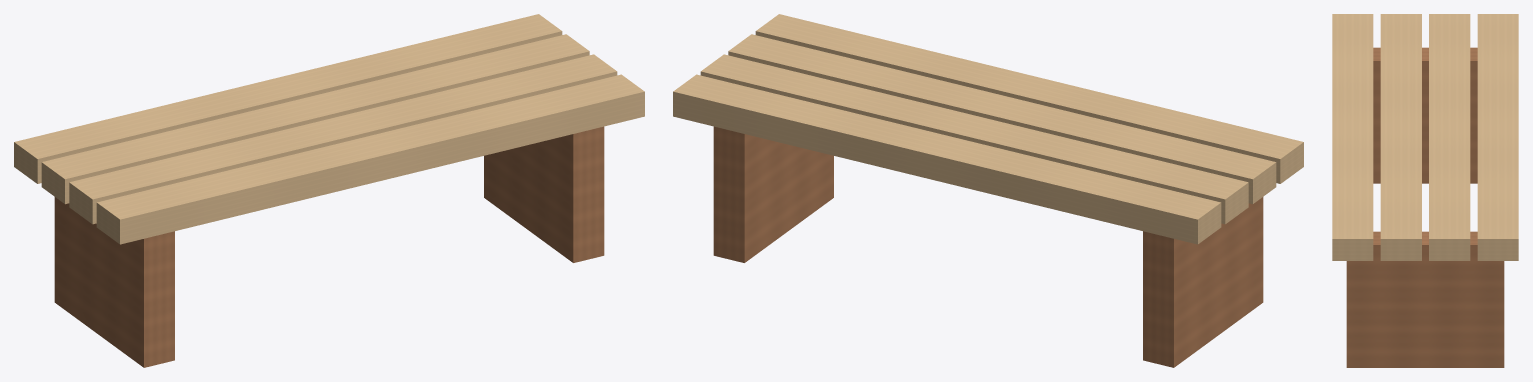
The model's file is atlas100-desertdeco-util03.glb.
3 views of the same model, side by side, from view 1: azimuth 30°, elevation 25°; view 2: azimuth 150°, elevation 25°; view 3: azimuth 270°, elevation 25° (orthographic). The views are drawn at different scales.
Parts seen in each view (by area): view 1: atlas100-desertdeco-util03:part-005, atlas100-desertdeco-util03:part-003, atlas100-desertdeco-util03:part-002, atlas100-desertdeco-util03:part-004, atlas100-desertdeco-util03:part-000, atlas100-desertdeco-util03:part-001; view 2: atlas100-desertdeco-util03:part-002, atlas100-desertdeco-util03:part-004, atlas100-desertdeco-util03:part-003, atlas100-desertdeco-util03:part-005, atlas100-desertdeco-util03:part-000, atlas100-desertdeco-util03:part-001; view 3: atlas100-desertdeco-util03:part-001, atlas100-desertdeco-util03:part-002, atlas100-desertdeco-util03:part-003, atlas100-desertdeco-util03:part-004, atlas100-desertdeco-util03:part-005, atlas100-desertdeco-util03:part-000.
Boxes of the visible parts, box(x1,y1,x2,y2) form: atlas100-desertdeco-util03:part-005: box(96, 74, 644, 244); atlas100-desertdeco-util03:part-003: box(41, 34, 589, 204); atlas100-desertdeco-util03:part-002: box(14, 14, 562, 183); atlas100-desertdeco-util03:part-004: box(69, 54, 617, 224); atlas100-desertdeco-util03:part-000: box(54, 197, 174, 367); atlas100-desertdeco-util03:part-001: box(484, 126, 604, 262); atlas100-desertdeco-util03:part-002: box(673, 74, 1221, 244); atlas100-desertdeco-util03:part-004: box(728, 34, 1276, 204); atlas100-desertdeco-util03:part-003: box(700, 54, 1248, 224); atlas100-desertdeco-util03:part-005: box(755, 14, 1303, 183); atlas100-desertdeco-util03:part-000: box(1143, 197, 1263, 367); atlas100-desertdeco-util03:part-001: box(713, 126, 833, 262); atlas100-desertdeco-util03:part-001: box(1346, 231, 1504, 367); atlas100-desertdeco-util03:part-002: box(1477, 14, 1518, 260); atlas100-desertdeco-util03:part-003: box(1429, 14, 1470, 260); atlas100-desertdeco-util03:part-004: box(1380, 14, 1421, 260); atlas100-desertdeco-util03:part-005: box(1332, 14, 1373, 260); atlas100-desertdeco-util03:part-000: box(1373, 47, 1477, 183).
Size of the model in its own units: 2.35 by 0.6949 by 0.8231.
Materials: 2 (2 with a texture image).
